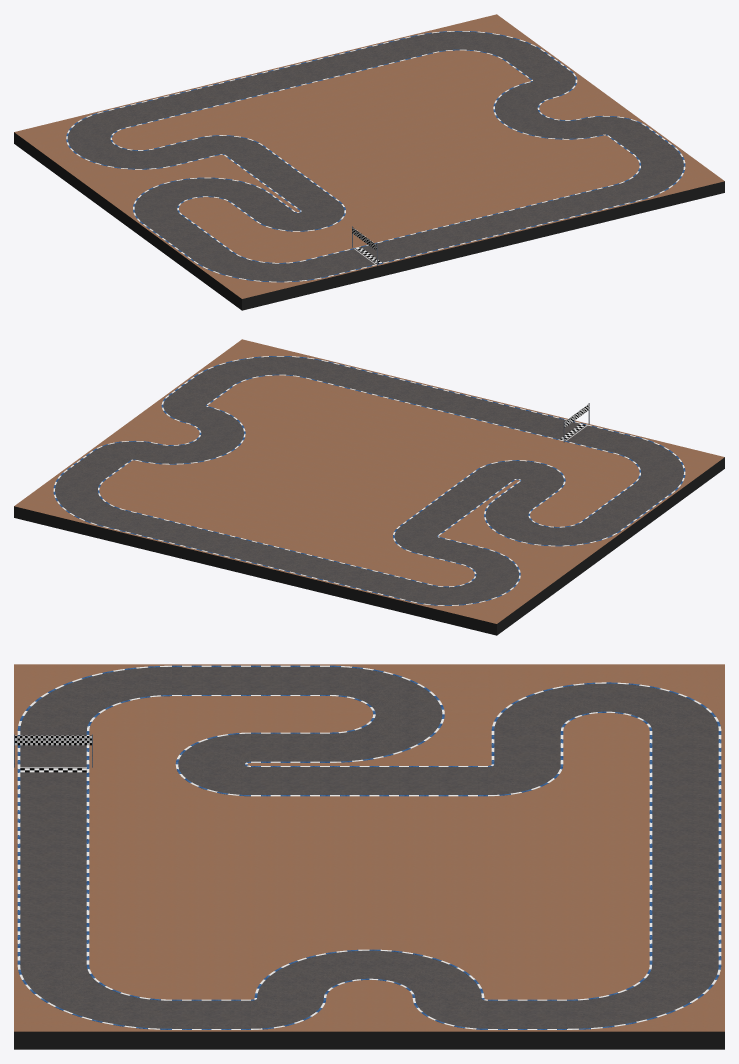
File: minimap4.glb
3 views of the same model, one above another, from view 1: azimuth 30°, elevation 25°; view 2: azimuth 150°, elevation 25°; view 3: azimuth 270°, elevation 25° (orthographic). The views are drawn at different scales.
Visible parts, largest first — view 1: track3.001, support2_black; view 2: track3.001, support2_black; view 3: track3.001, support2_black, startLine.
Boxes of the visible parts, x1=… form: track3.001: x1=14, y1=14, x2=724, y2=298; support2_black: x1=14, y1=132, x2=724, y2=310; track3.001: x1=14, y1=339, x2=724, y2=623; support2_black: x1=14, y1=457, x2=724, y2=635; track3.001: x1=14, y1=664, x2=724, y2=1031; support2_black: x1=14, y1=1031, x2=724, y2=1049; startLine: x1=14, y1=734, x2=92, y2=772.
Size of the model in its own units: 4.35 by 0.2816 by 3.56.
6 materials, 5 textured.
